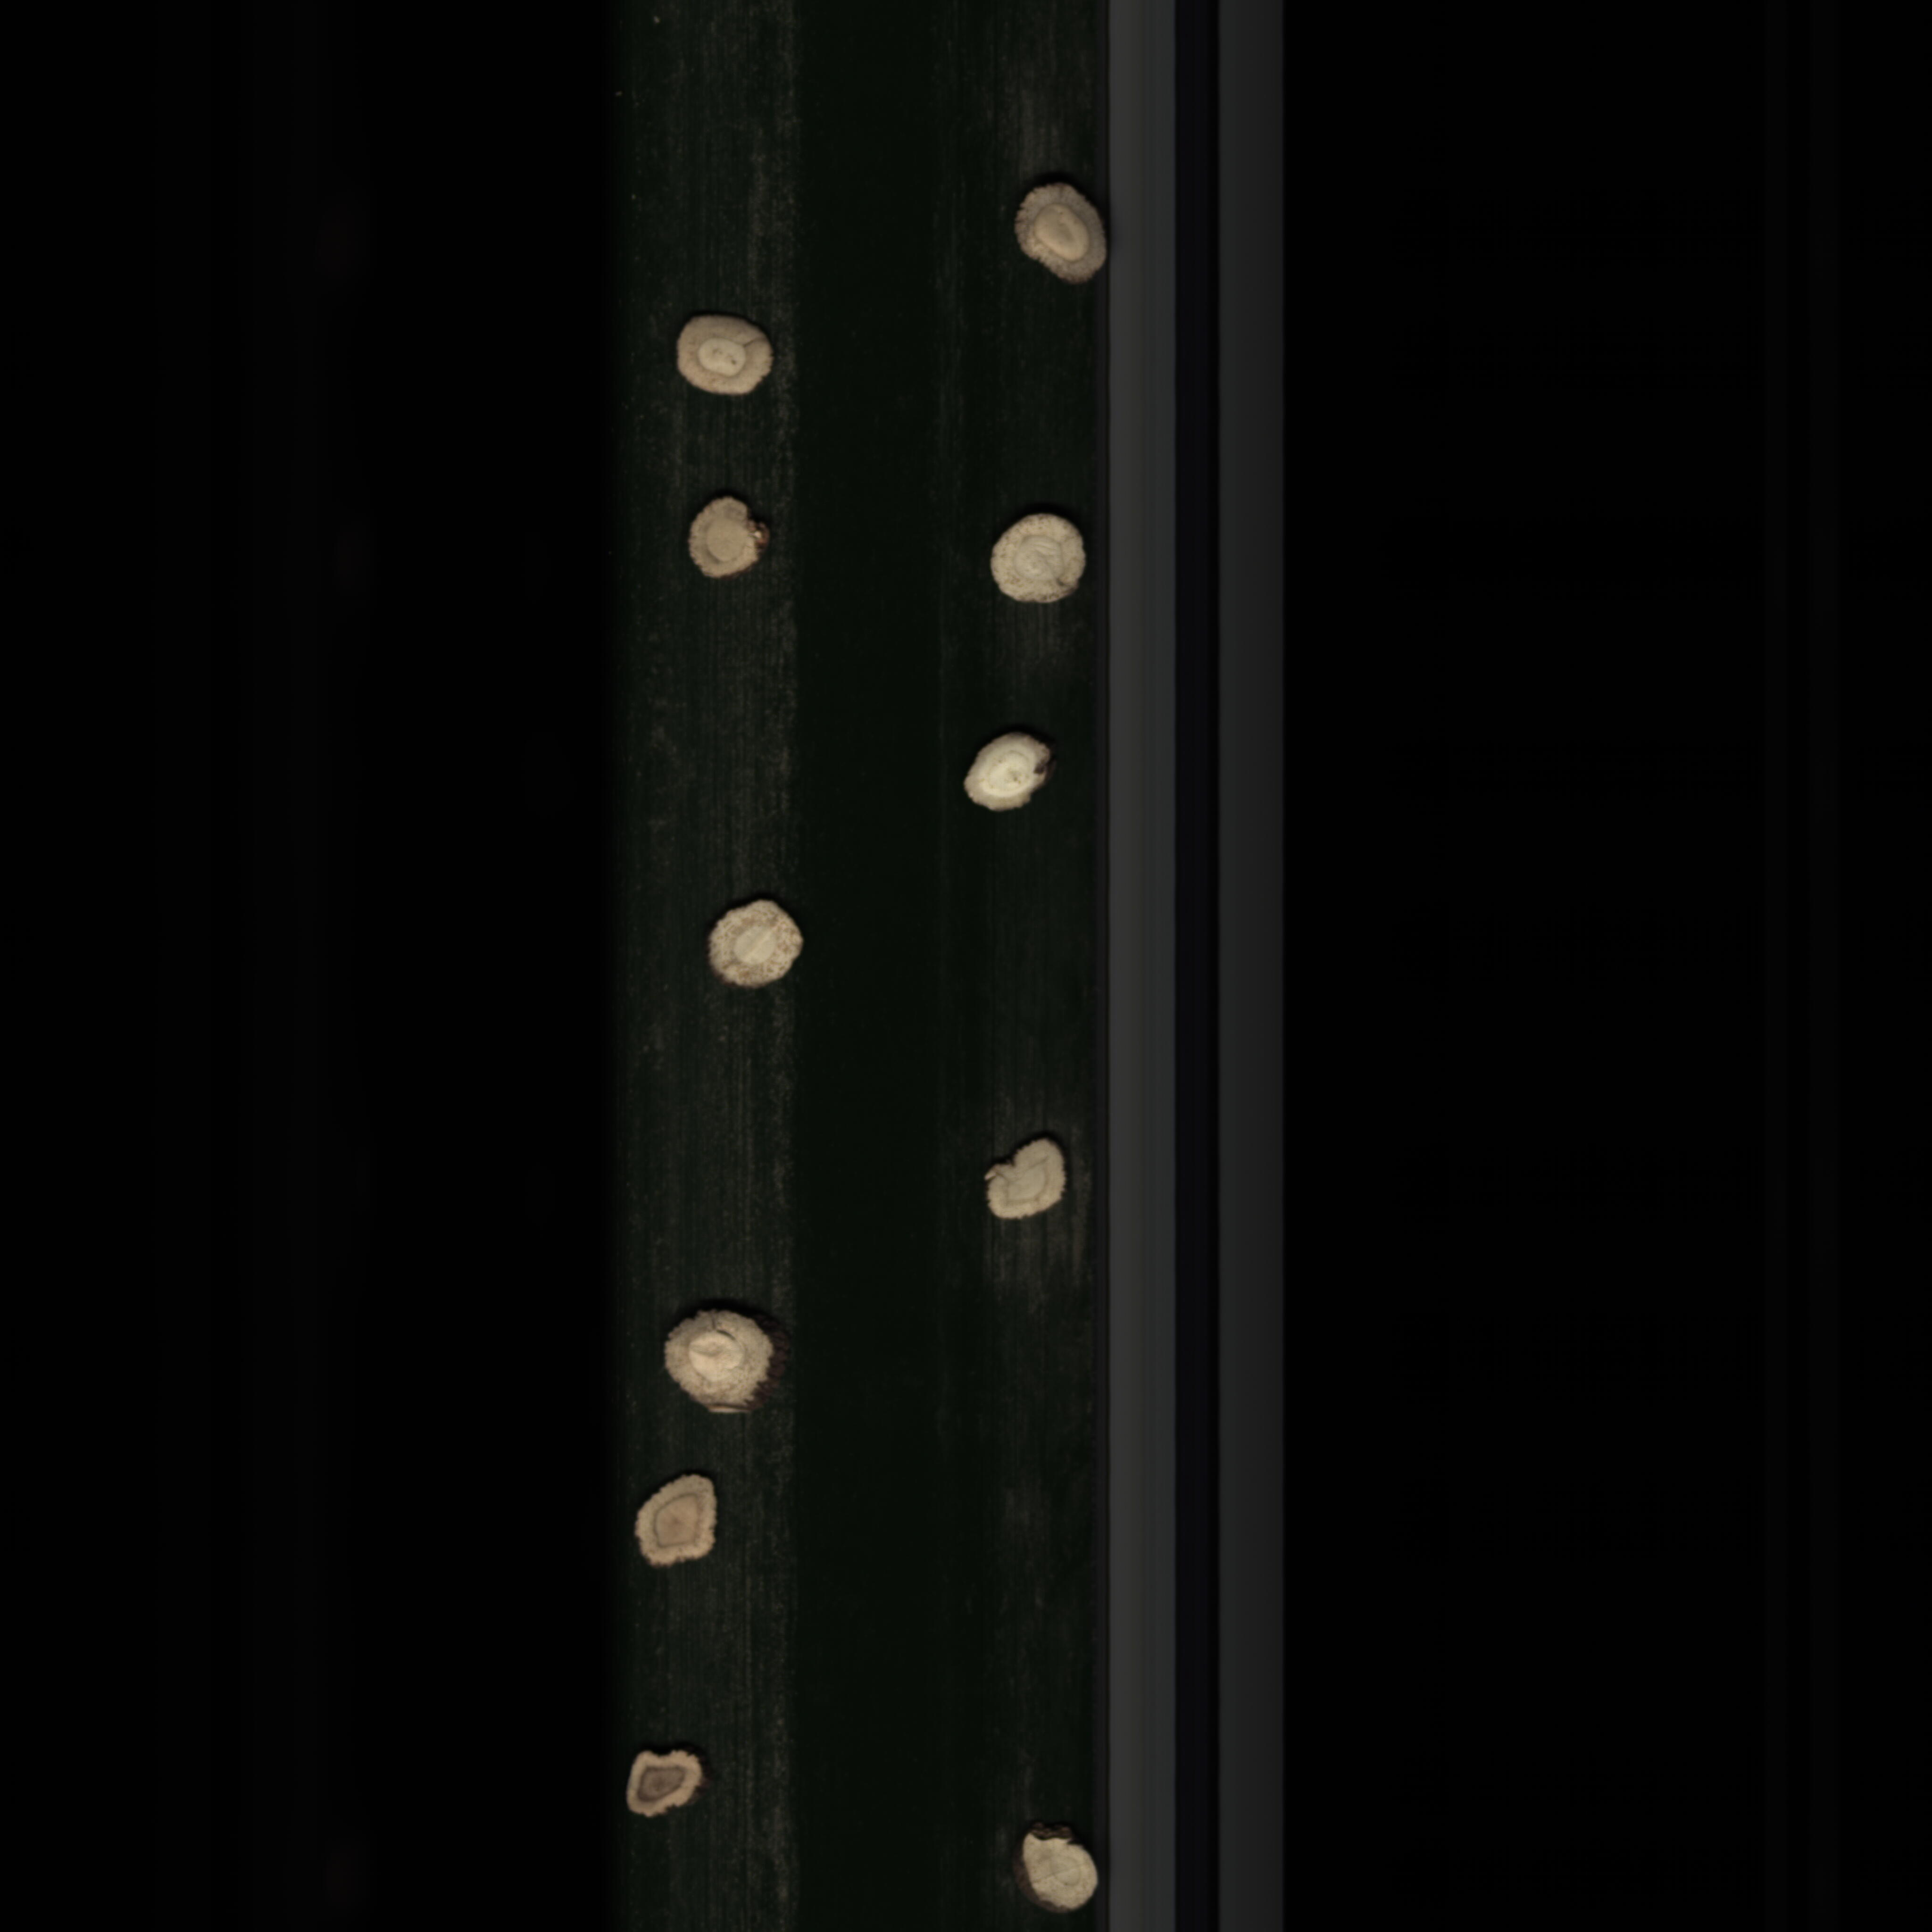distortion: (678, 485, 782, 586)
moldy: (998, 175, 1118, 297), (628, 1460, 736, 1582), (619, 1743, 722, 1826)
